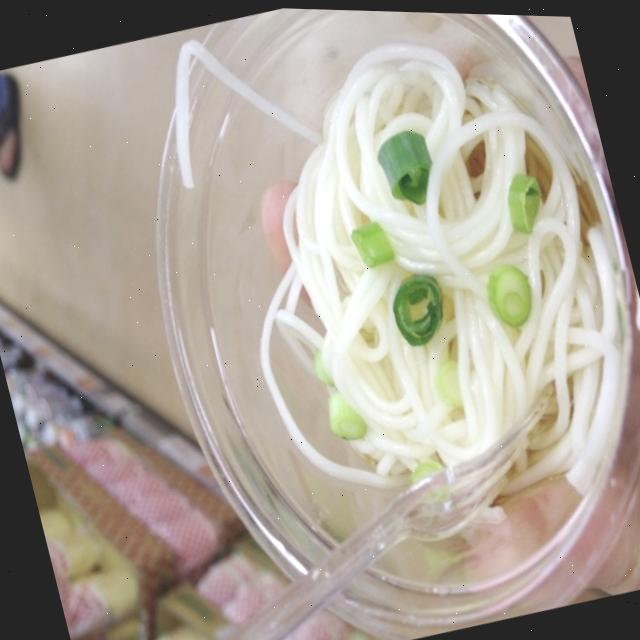面条主食: (83, 2, 640, 640)
